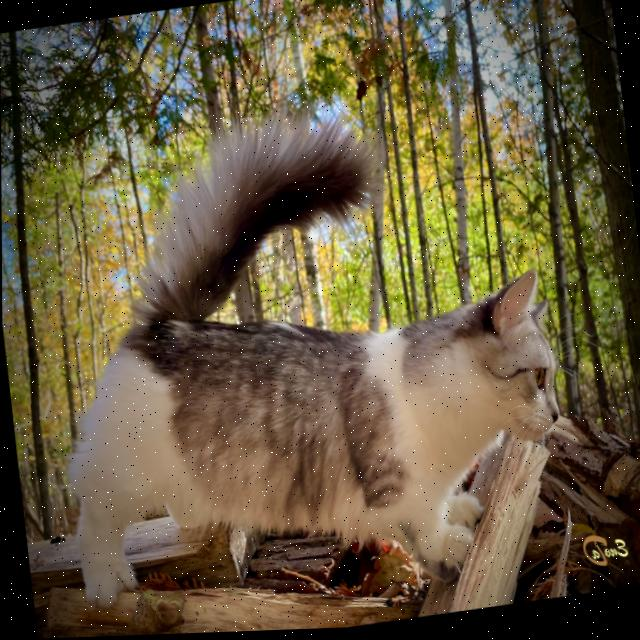Munchkin: (20, 77, 582, 624)
